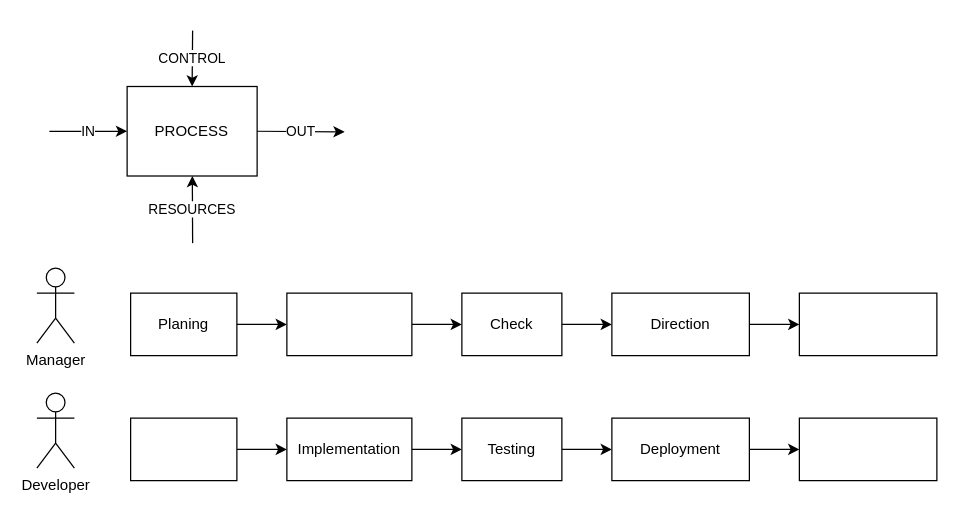
Image size: 959x516. Some labels were removed from this diagram. Here are the shapes that lost their labels. From the top down, the centre of each, then its label:
At point 349,324: "Organization".
At point 867,324: "Communication".
At point 183,449: "Design".
At point 867,449: "Maintanance".
